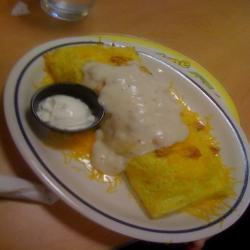cream: (35, 86, 109, 139)
omelette: (43, 38, 237, 223)
